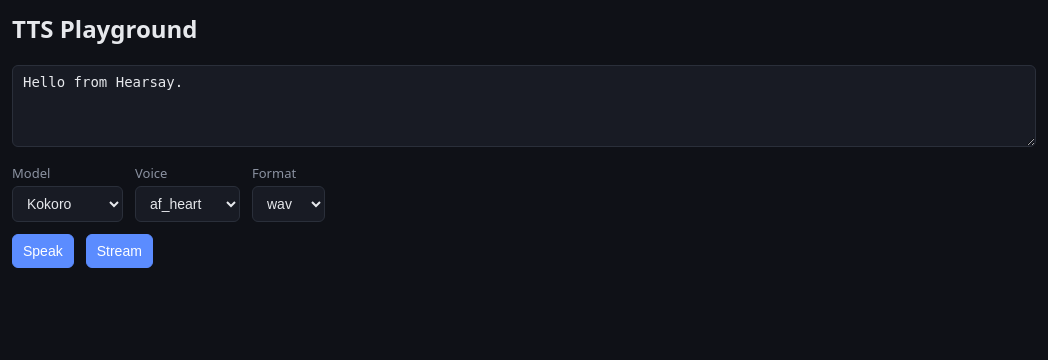
TtsPlayground › surfaces a streaming failure
Click the button "Stream" at (119, 251), box [86,234,153,268]
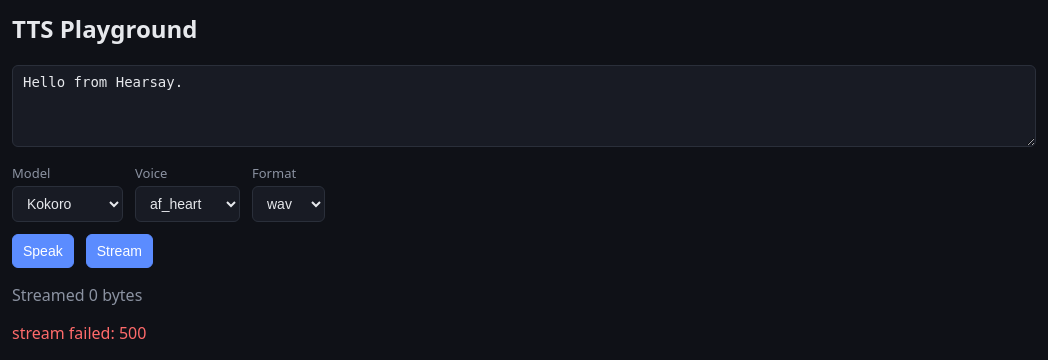
Now the message shows "stream failed", box [12,322,146,344]
